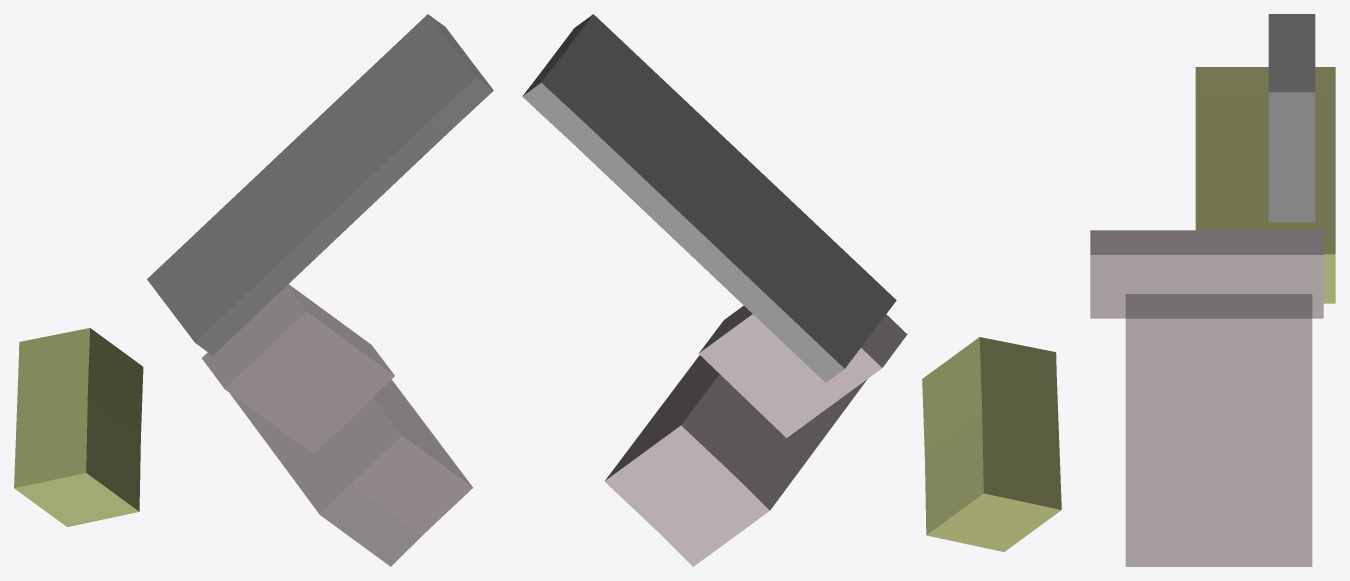
3 views of the same model, side by side, from view 1: azimuth 30°, elevation 25°; view 2: azimuth 150°, elevation 25°; view 3: azimuth 270°, elevation 25° (orthographic). The views are drawn at different scales.
Parts seen in each view (by area): view 1: 0_1_2_0_0_2_1_2_1; view 2: 0_1_2_0_0_2_1_2_1; view 3: 0_1_2_0_0_2_1_2_1.
Boxes of the visible parts, box(x1,y1,x2,y2) form: 0_1_2_0_0_2_1_2_1: box(14, 14, 493, 566); 0_1_2_0_0_2_1_2_1: box(522, 14, 1061, 566); 0_1_2_0_0_2_1_2_1: box(1090, 14, 1335, 566).
Bounding box in the file's own units: 44.33 × 44.14 × 15.77.
